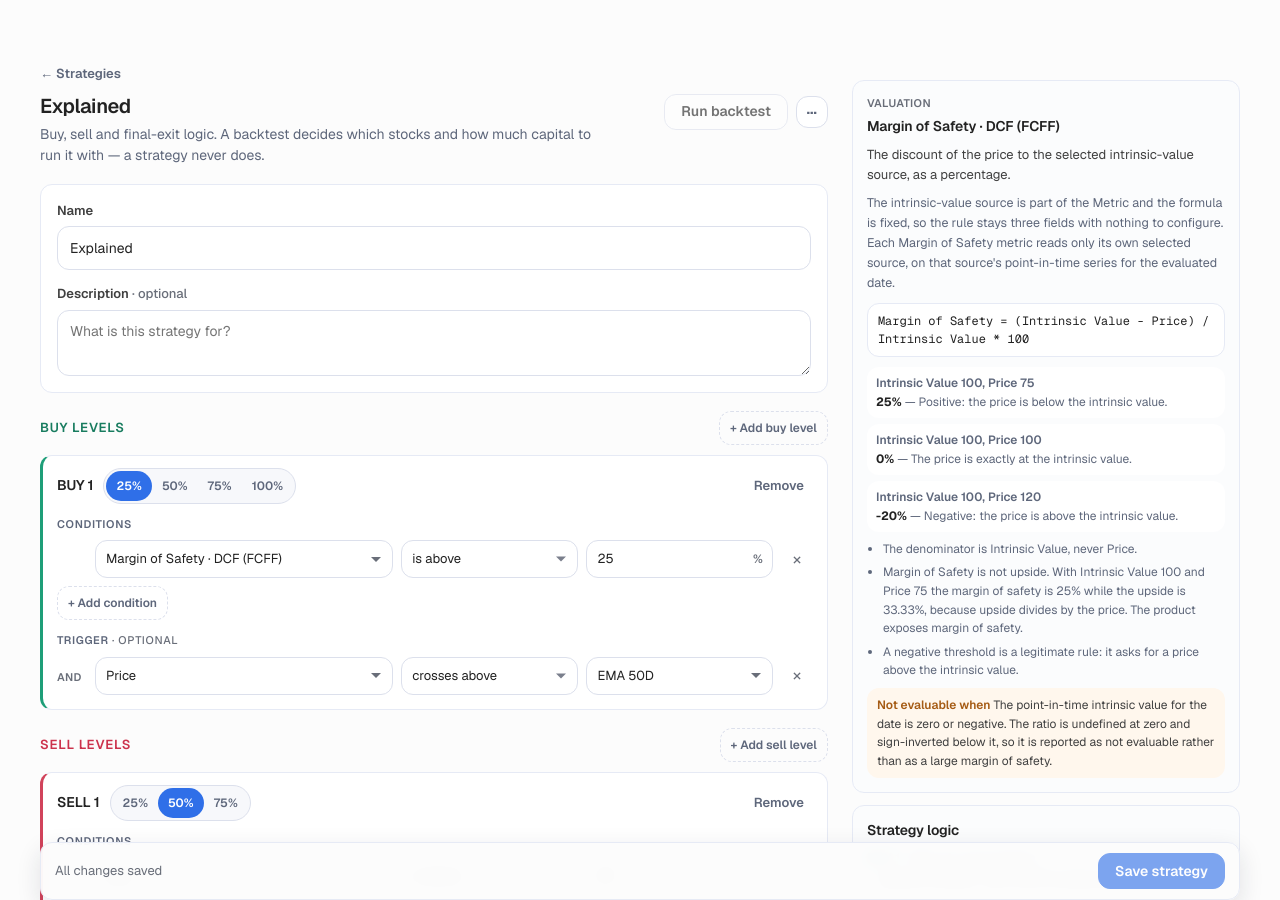
Test: explanation panel › shows an incomplete level instead of silently omitting it
This screenshot has width=1280, height=900.
Step 1. Click the button named "Remove condition 1" → (797, 559), box [781,540,813,578]
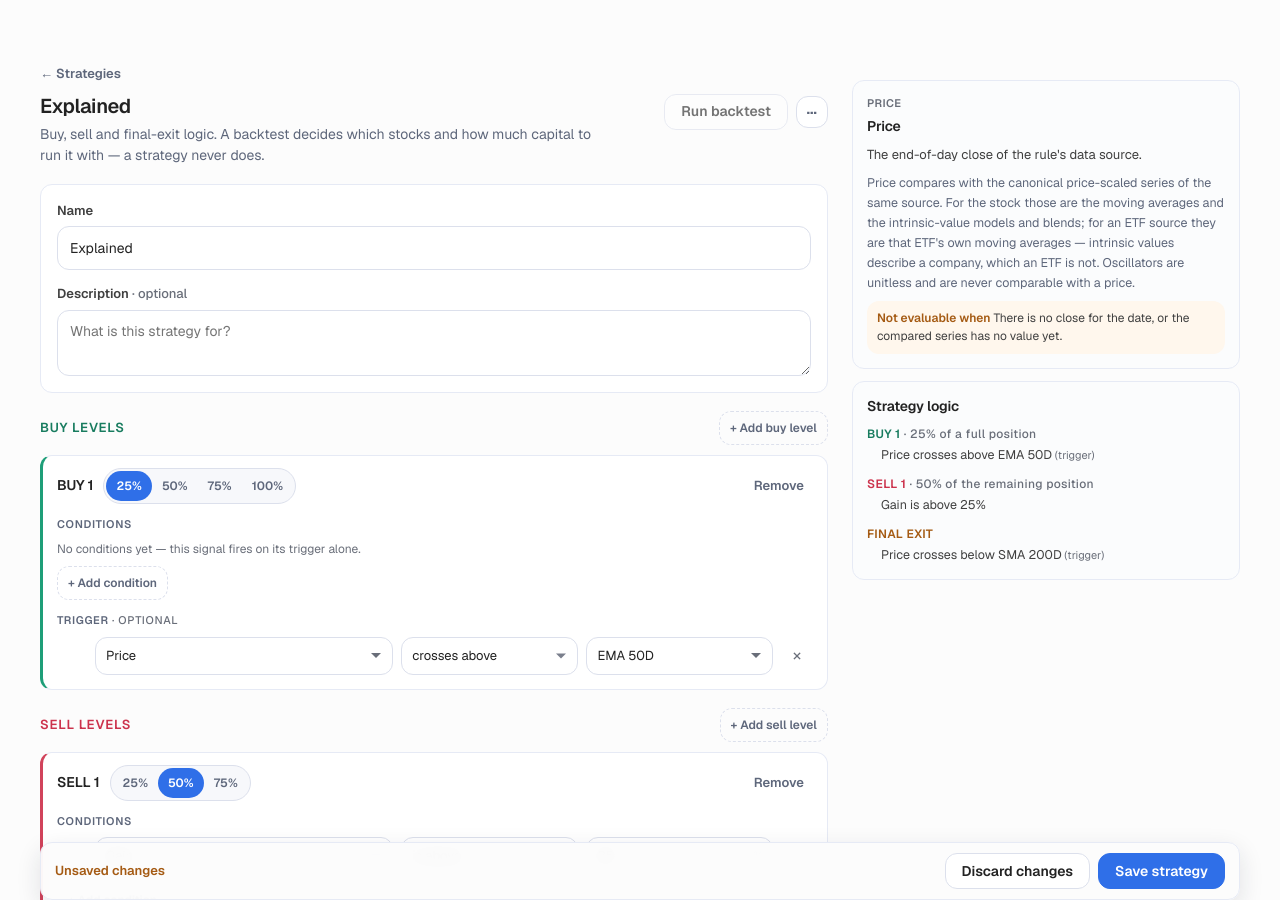
Step 2. Click the button named "Remove trigger" → (797, 656), box [781,636,813,674]
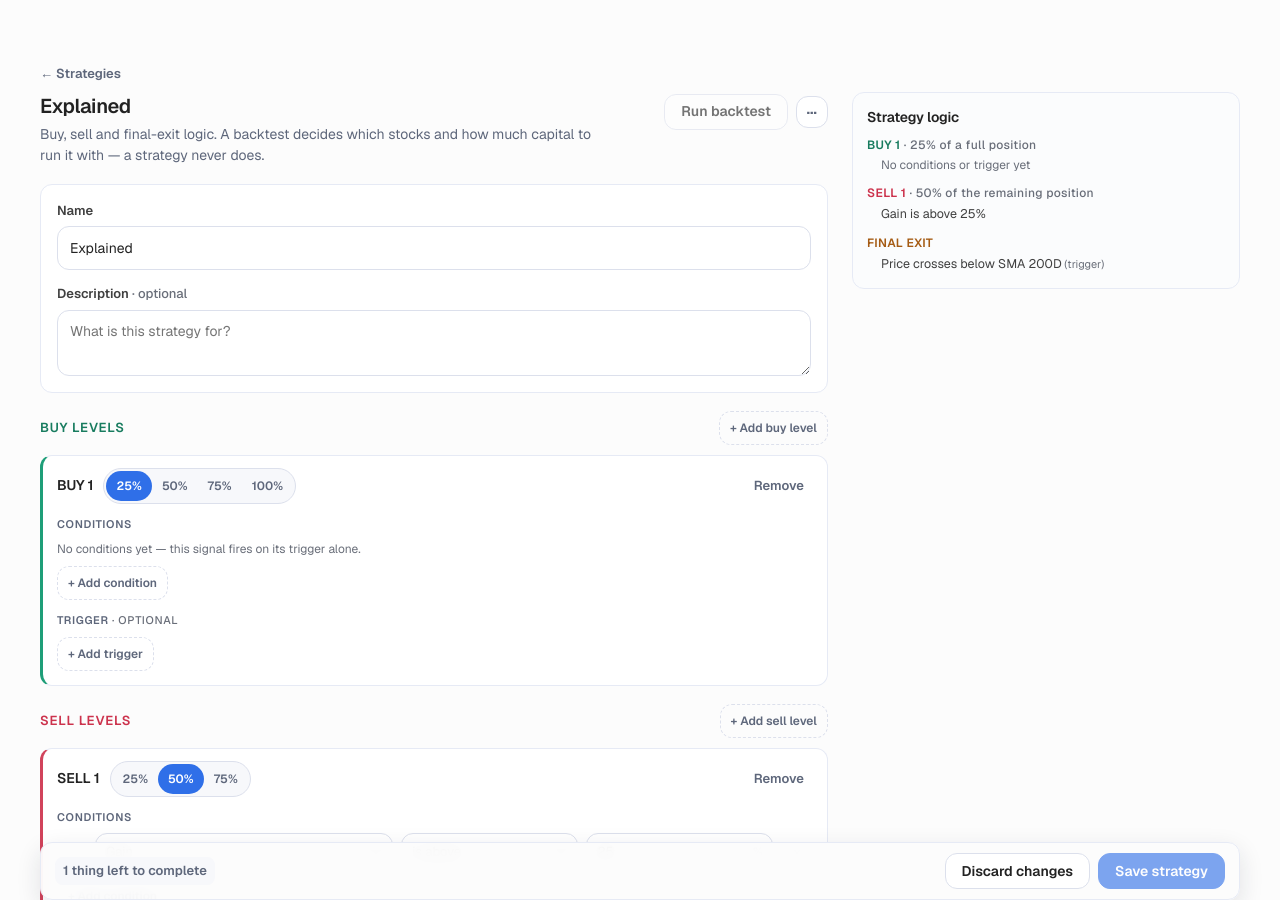
Check: the element with test id "logic-preview" shows "No conditions or trigger yet", box [881,157,1030,173]
